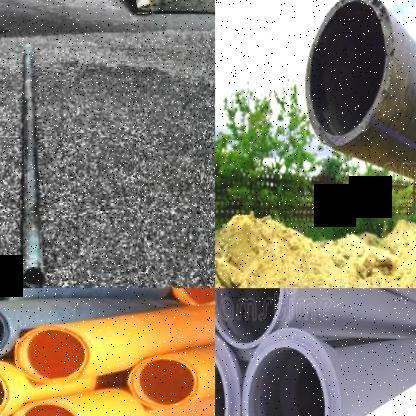pipe: (304, 0, 394, 148), (242, 327, 339, 416), (215, 288, 294, 360), (15, 326, 90, 384), (128, 354, 200, 408), (7, 400, 82, 416), (172, 288, 216, 306), (22, 266, 43, 288)
